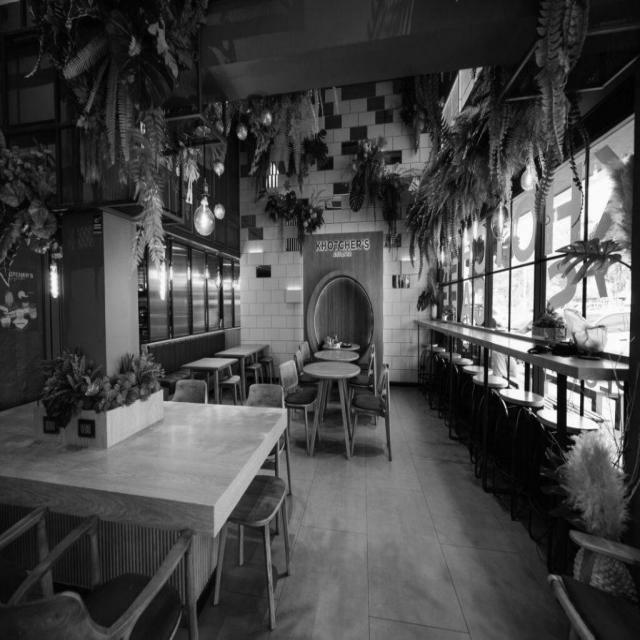table: (2, 368, 284, 550), (298, 327, 364, 395)
